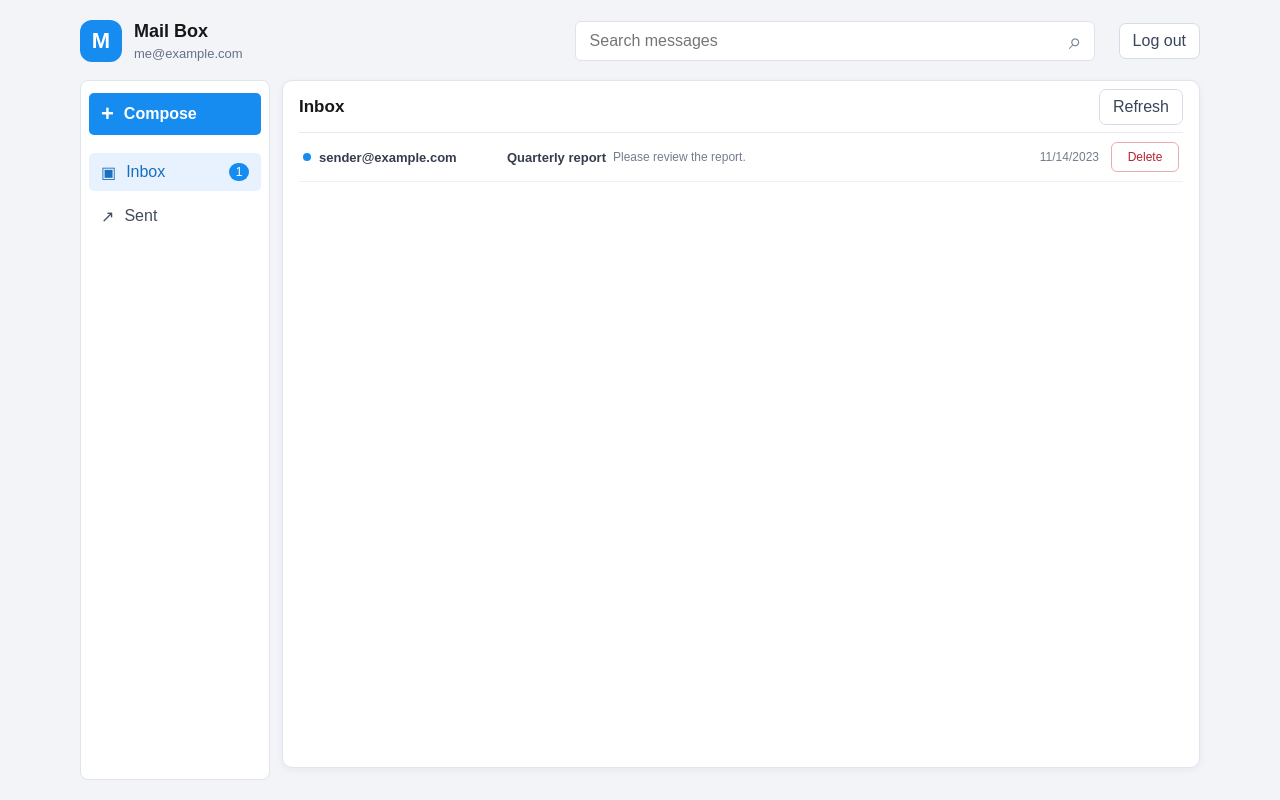
Test: Inbox unread blue-dot logic › does not show unread dots or unread counts in Sent
Check: the text "Quarterly report" is shown, box [507, 150, 606, 164]
Click the button "↗ Sent" at (175, 216), box [89, 197, 261, 235]
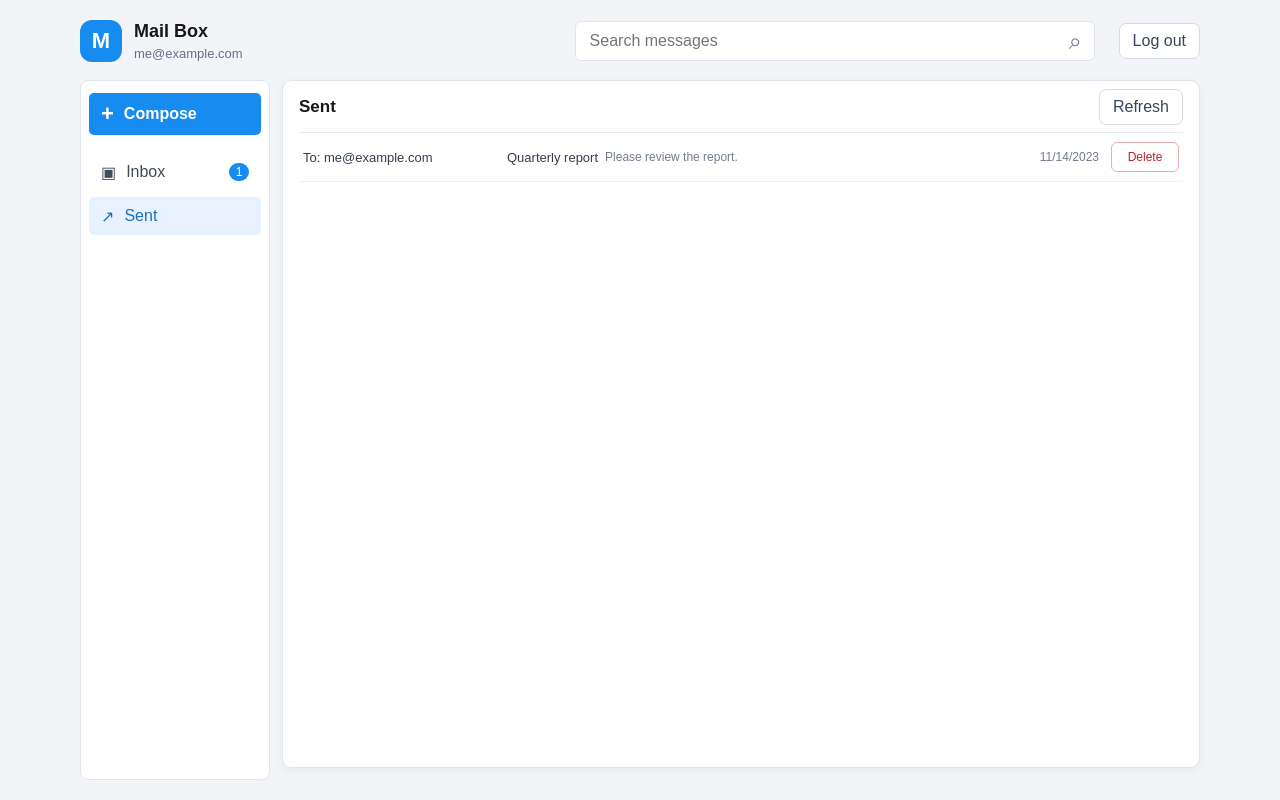
Check: the text "To: me@example.com" is shown, box [303, 150, 432, 164]
Check: the field labelled "Unread" is gone
